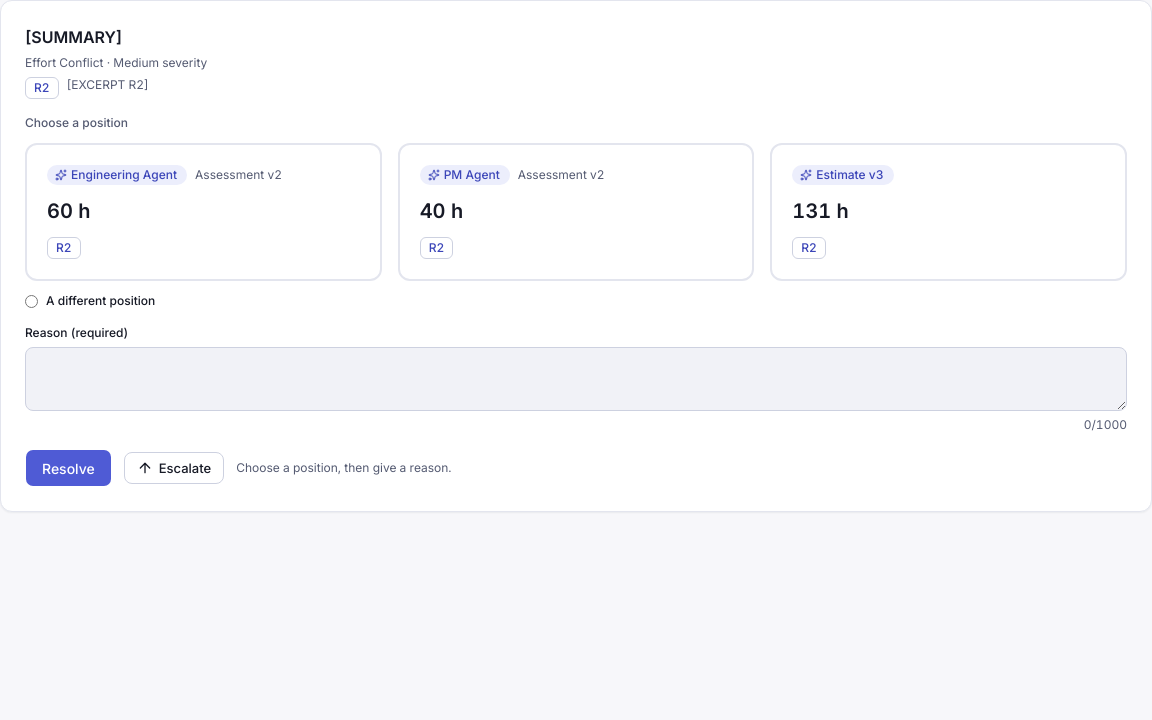
Scenario: resolving a Conflict › shows the 412 message with Reload, and 422 and 403 inline
The image size is (1152, 720).
Click the radio button labelled "Estimate v3 131 h R2" at [843, 175], box [770, 143, 1127, 281]
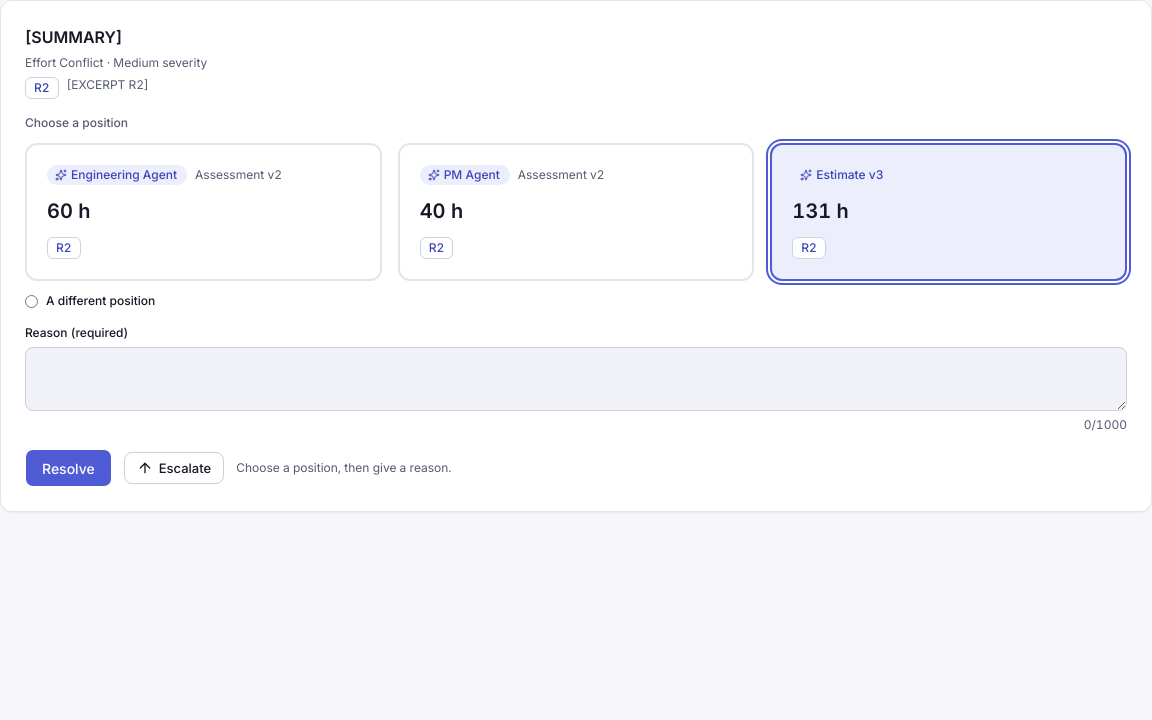
Type "Keep it." into the text box labelled "Reason (required)" at [576, 379], box [25, 347, 1127, 411]
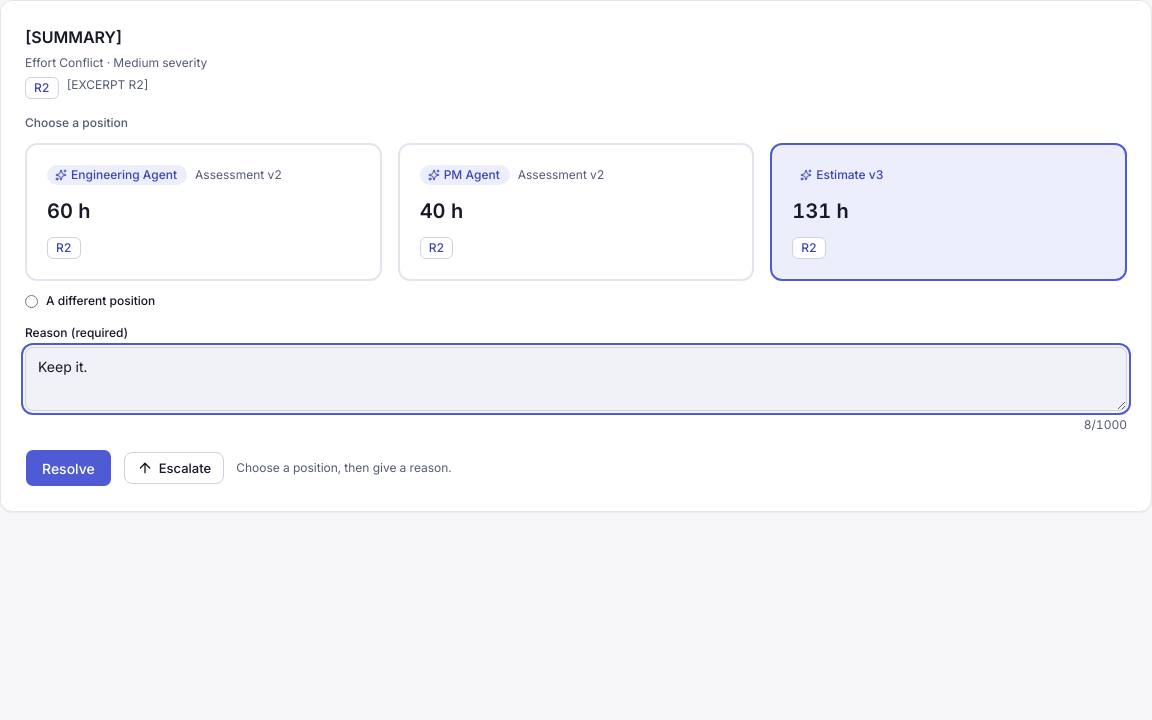
Click the button "Resolve" at [68, 468], box [25, 449, 112, 487]
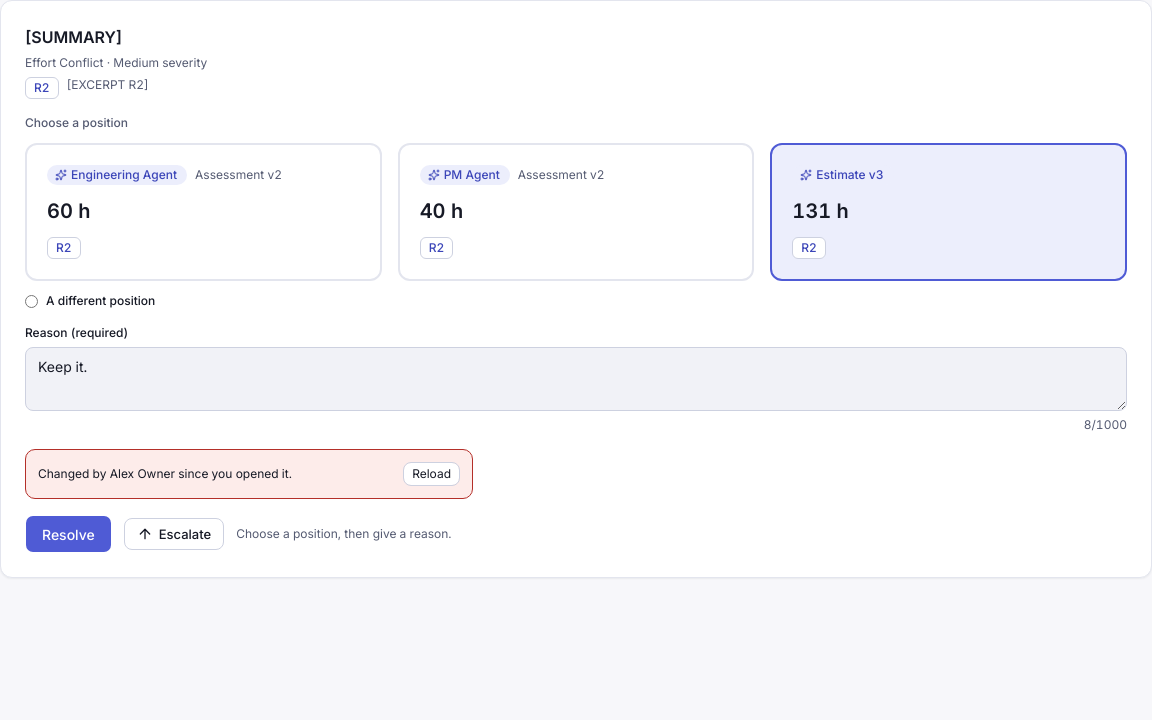
expect the text "Changed by Alex Owner since you opened it." is shown: met, box [38, 466, 292, 482]
Click the button "Reload" at [432, 474], box [403, 462, 460, 486]
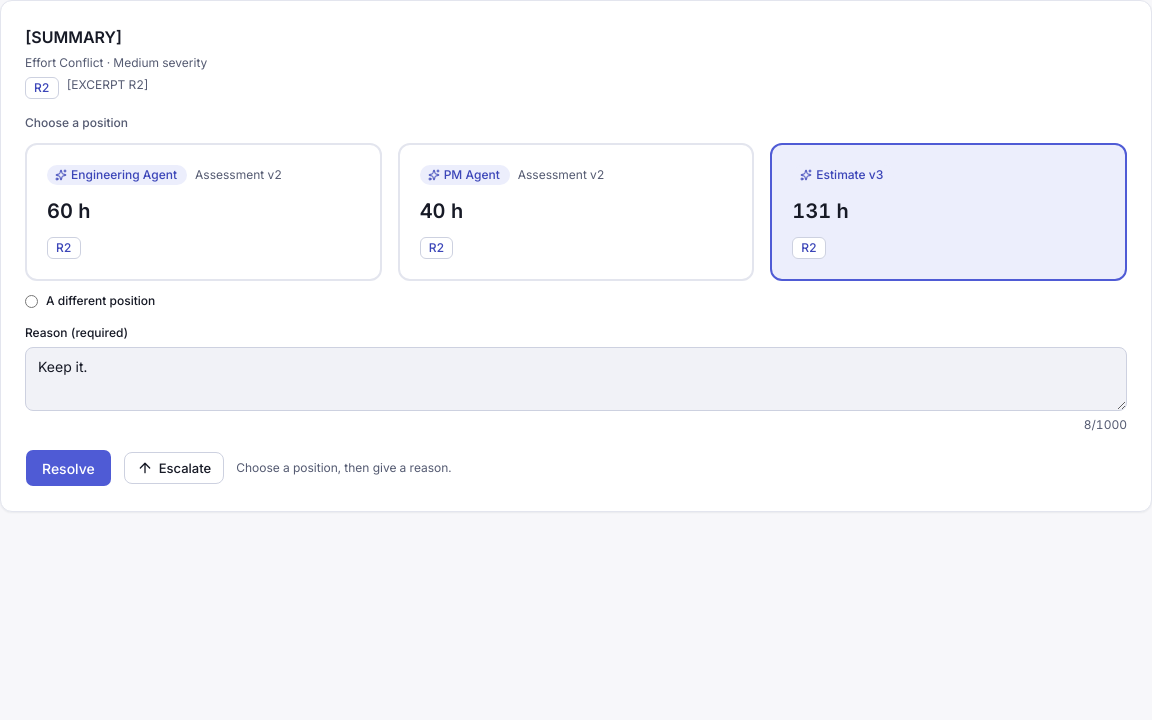
Click the button "Resolve" at [68, 468], box [25, 449, 112, 487]
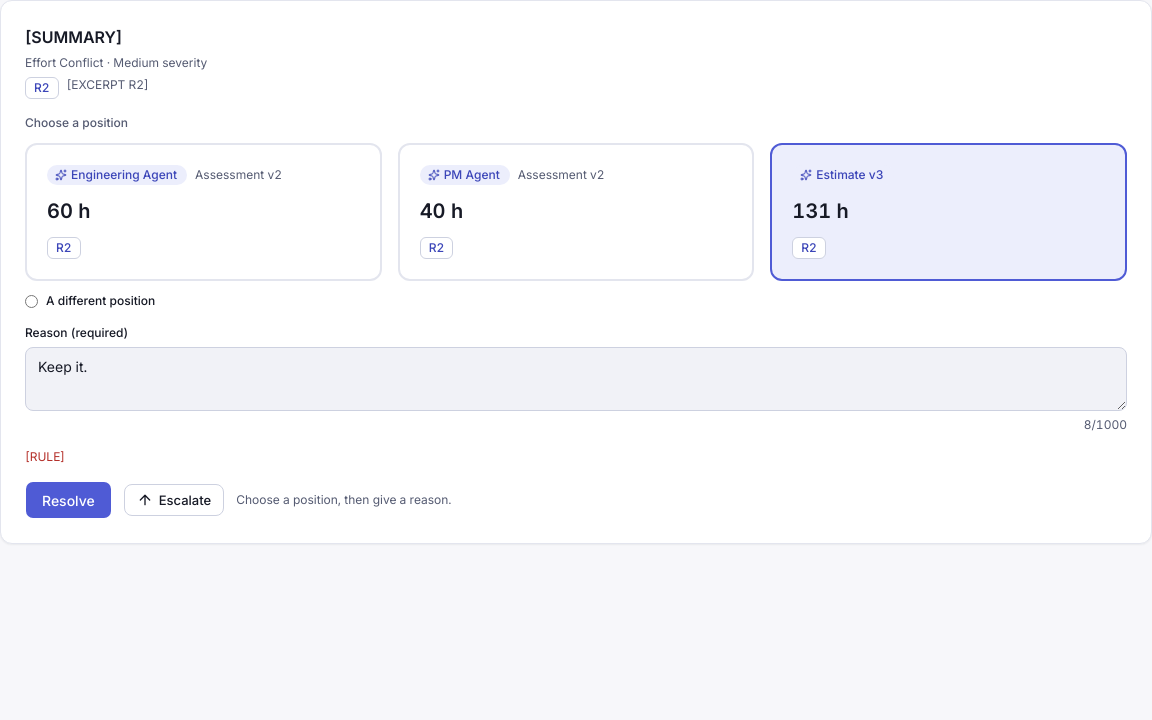
expect the text "[RULE]" is shown: met, box [25, 449, 65, 464]
Click the button "Resolve" at [68, 500], box [25, 481, 112, 519]
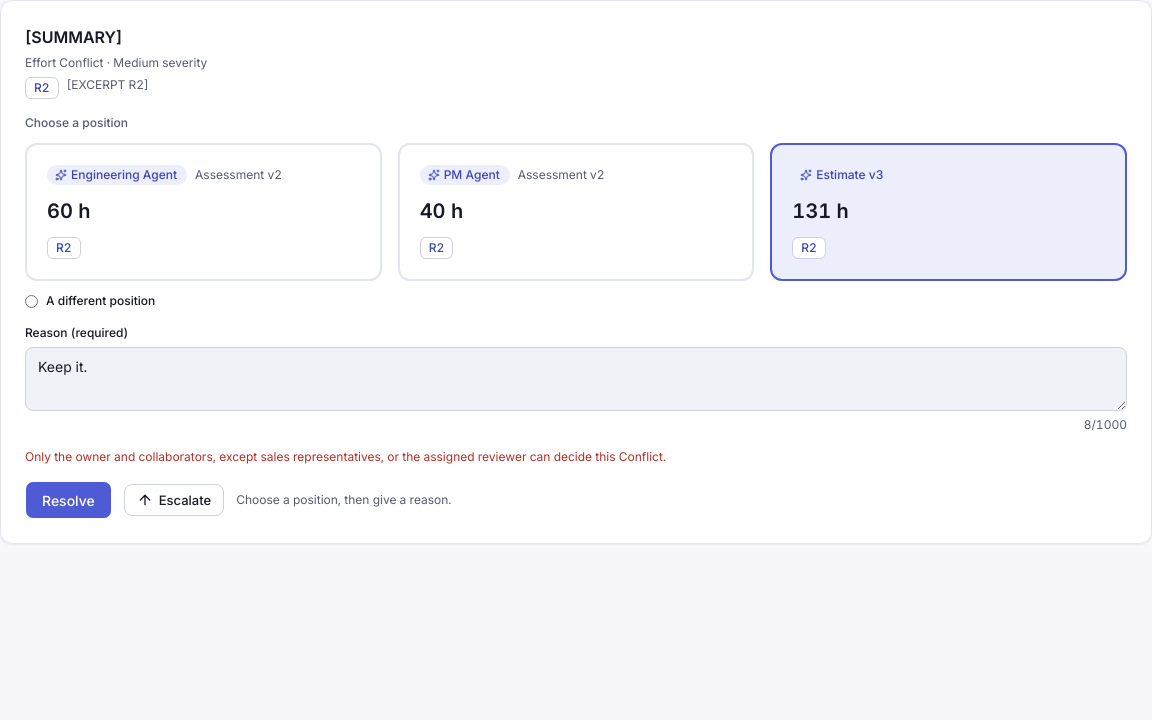
expect the text "Only the owner and collaborators" is shown: met, box [25, 449, 666, 464]
